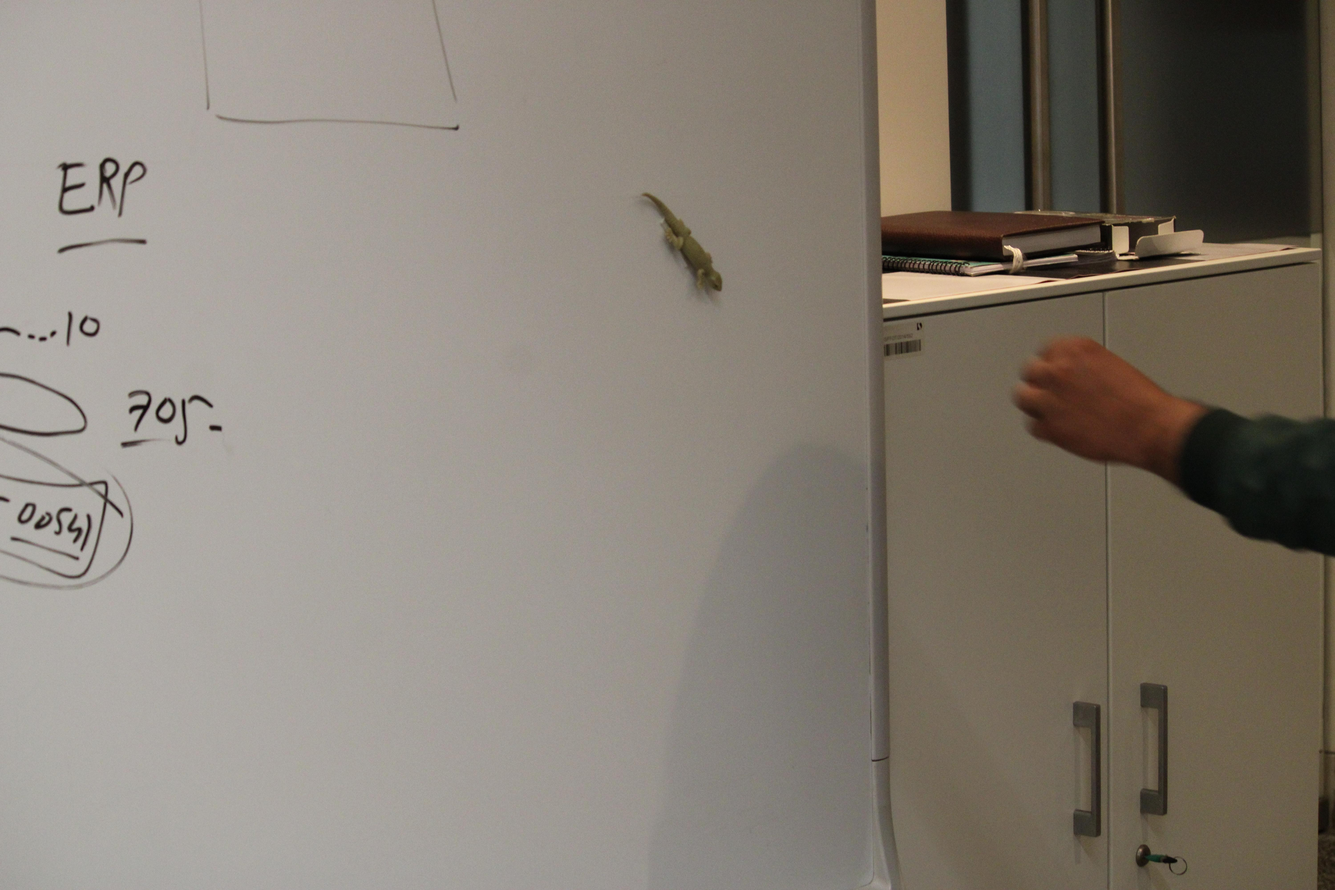lizard: (632, 178, 730, 295)
